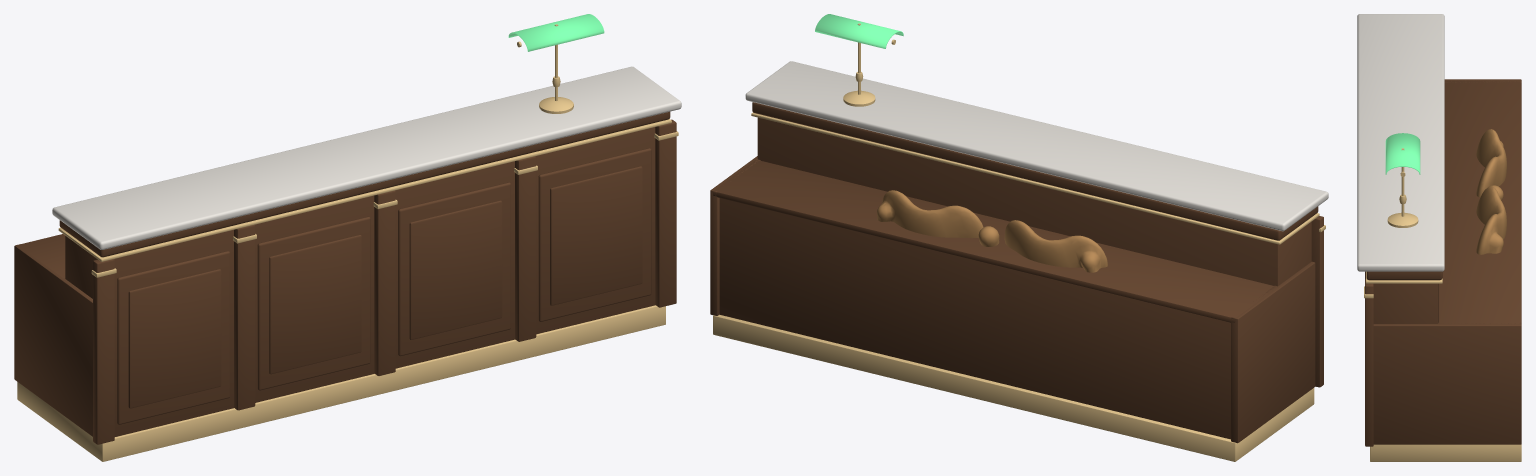
The model's file is mobilier.glb.
3 renders of one model, left to right at view 1: azimuth 30°, elevation 25°; view 2: azimuth 150°, elevation 25°; view 3: azimuth 270°, elevation 25°, orthographic. The views are drawn at different scales.
Visible parts, largest first — view 1: Accueil; view 2: Accueil, BancBatllo; view 3: Accueil, BancBatllo.
Part boxes in pixels (<box>): Accueil: <box>14,14,681,461</box>; Accueil: <box>710,14,1328,461</box>; BancBatllo: <box>877,190,1107,272</box>; Accueil: <box>1357,14,1521,461</box>; BancBatllo: <box>1476,129,1506,254</box>.
Size of the model in its own units: 2.9 by 1.5 by 0.8.
